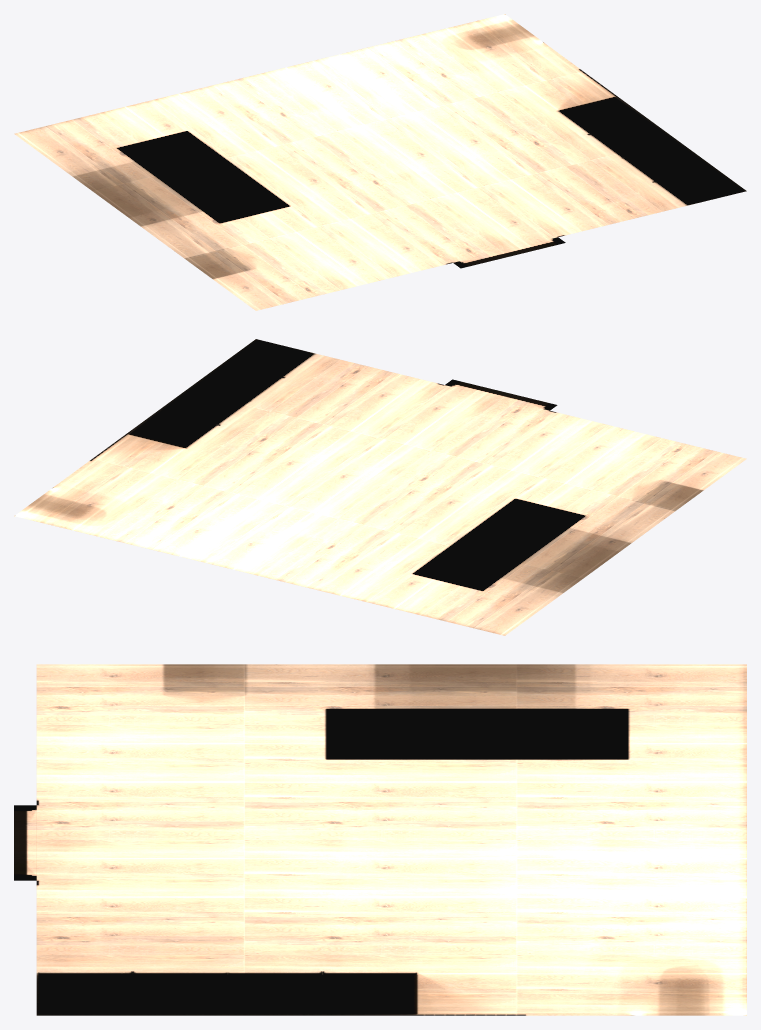
File: Floor_cedar_brown.glb
The picture shows the model from 3 angles, top to bottom: view 1: azimuth 30°, elevation 25°; view 2: azimuth 150°, elevation 25°; view 3: azimuth 270°, elevation 25°; orthographic projection. The views are drawn at different scales.
Visible parts, largest first — view 1: Floor_cedar_brown; view 2: Floor_cedar_brown; view 3: Floor_cedar_brown.
Part boxes in pixels (bbox=[...]): Floor_cedar_brown: bbox=[14, 14, 746, 310]; Floor_cedar_brown: bbox=[14, 339, 746, 635]; Floor_cedar_brown: bbox=[14, 664, 746, 1015].
Bounding box in the file's own units: 3.67 × 5.31e-07 × 3.23.
Materials: 1 (1 with a texture image).
